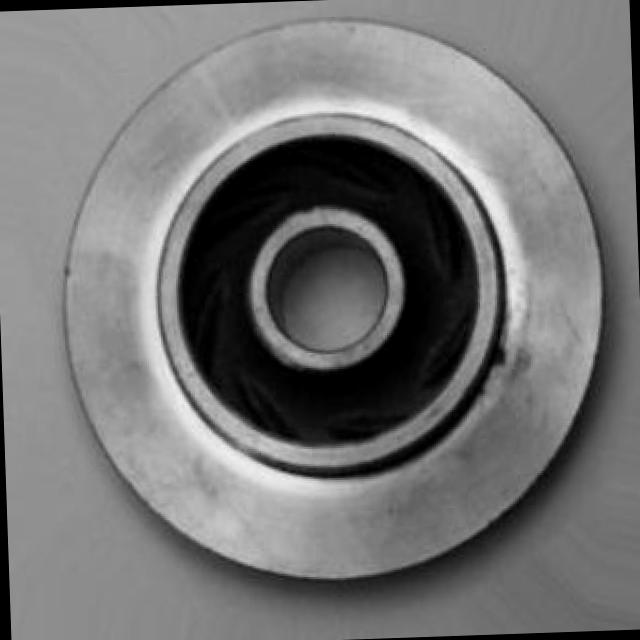Defect: (486, 343, 512, 375)
